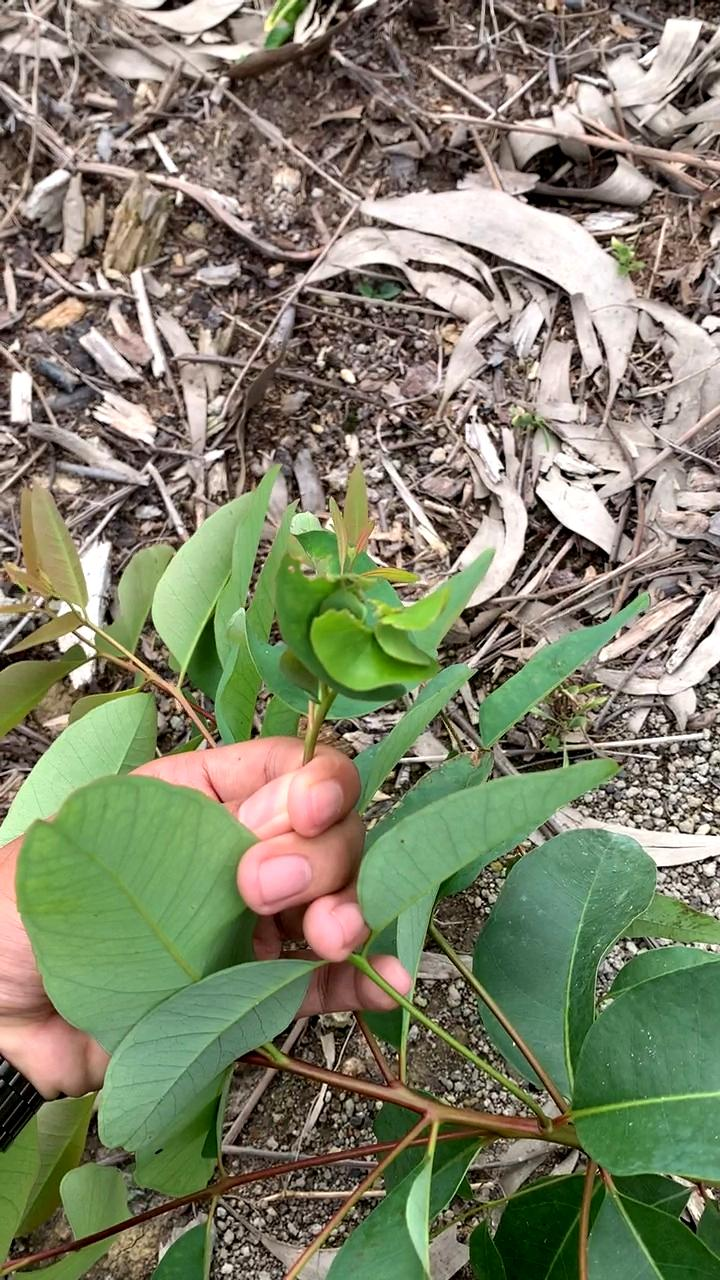Leaf Roller - Leaf: (295, 573, 483, 705)
